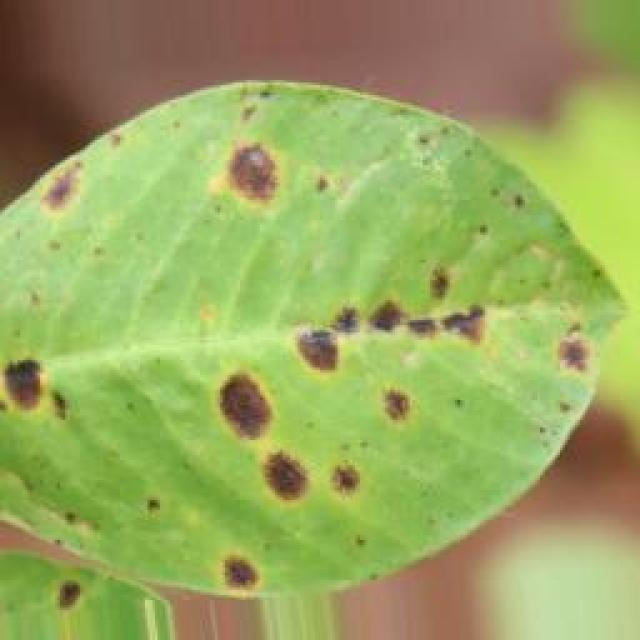Yellowish: (11, 77, 589, 638)
